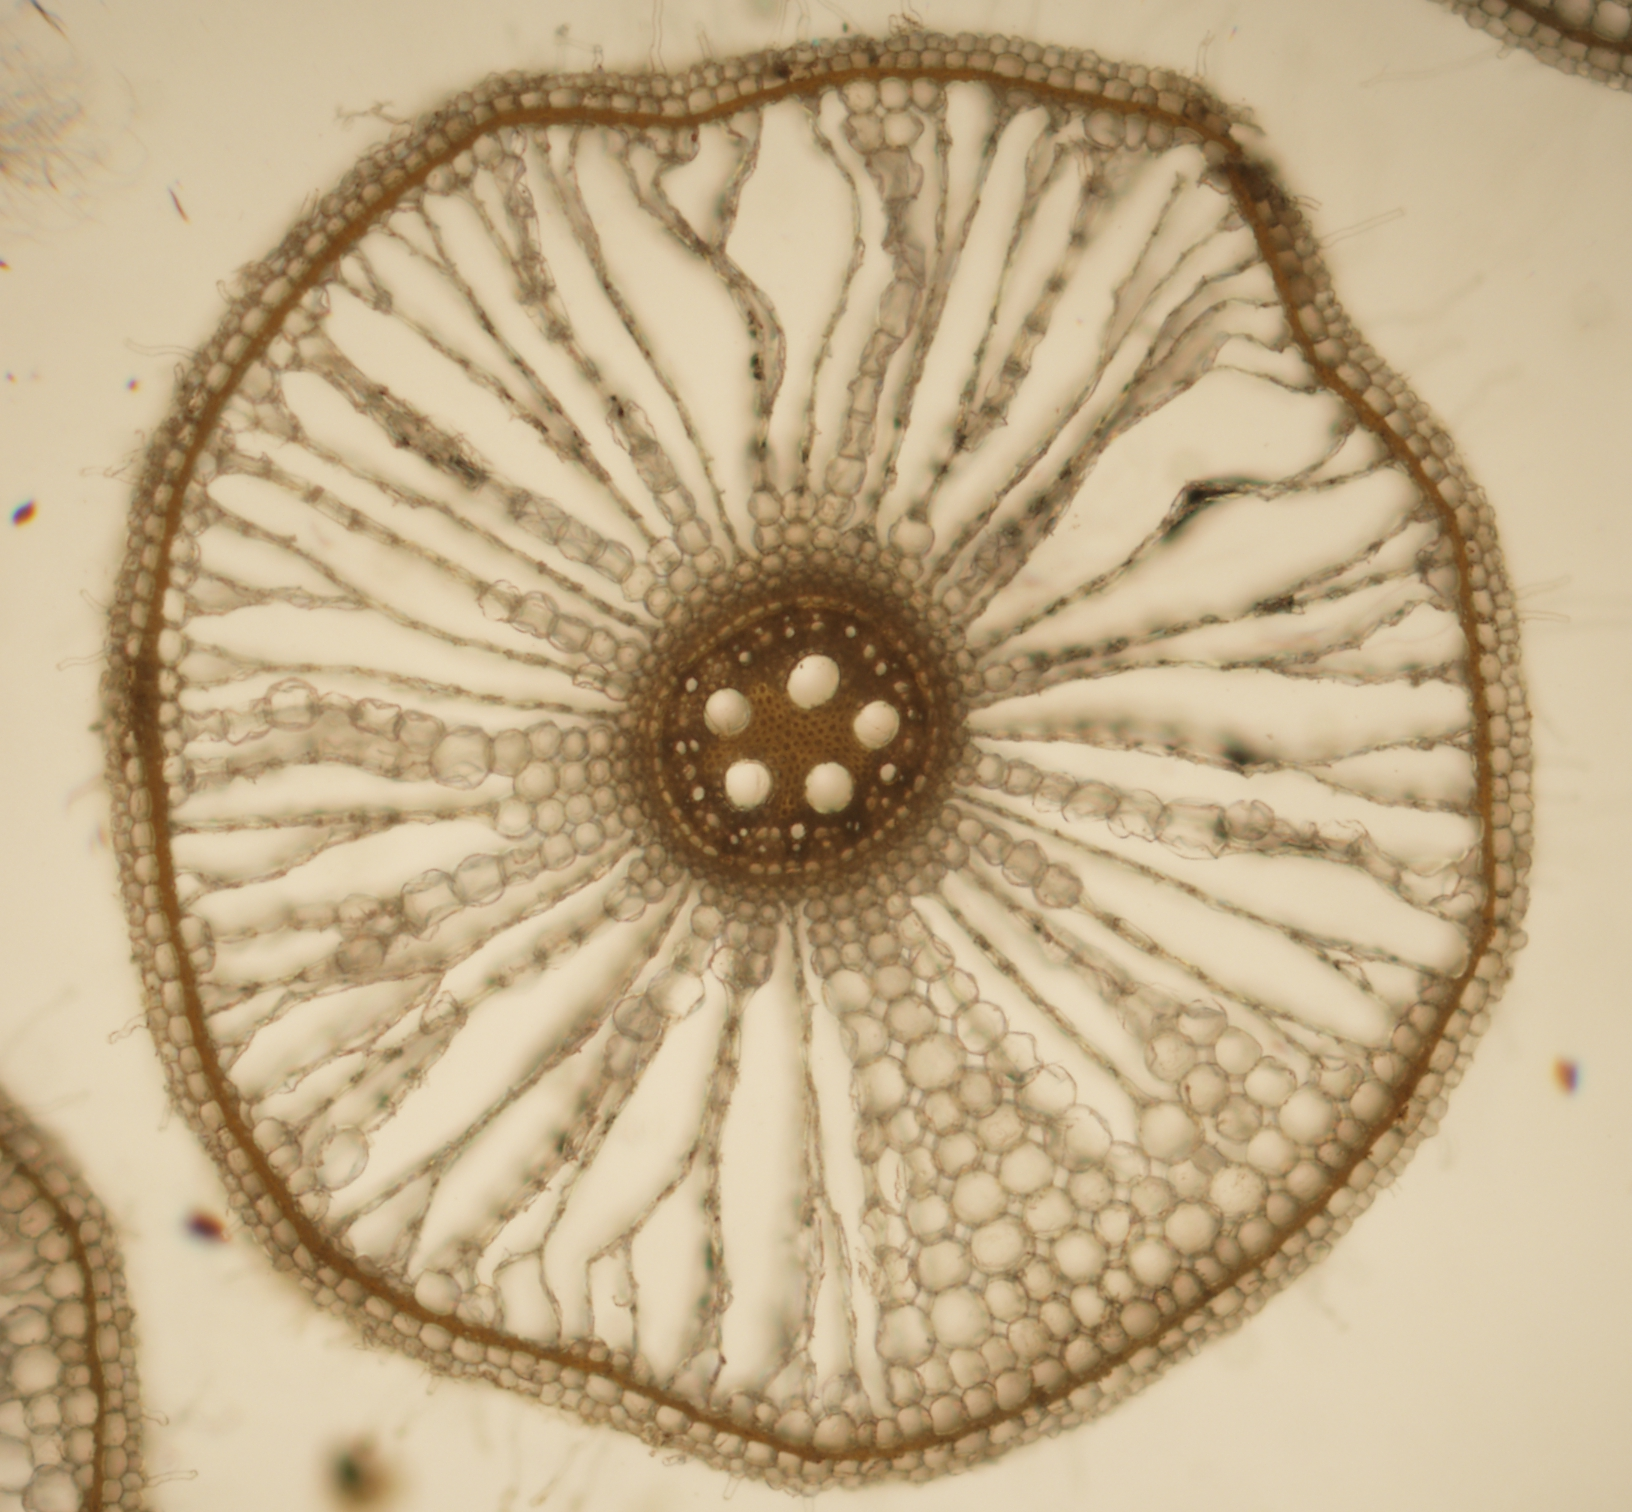lm: (788, 654, 840, 709), (724, 757, 773, 811), (805, 762, 854, 814), (702, 686, 751, 739), (853, 701, 900, 749)
